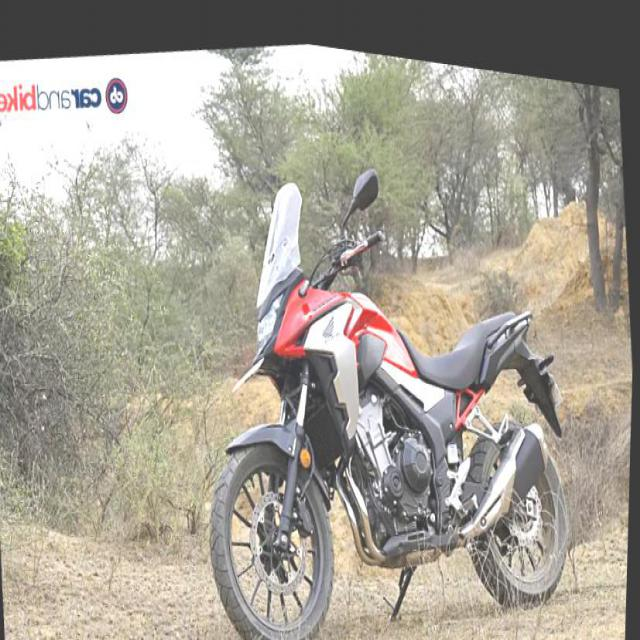CB500X: (181, 111, 586, 638)
